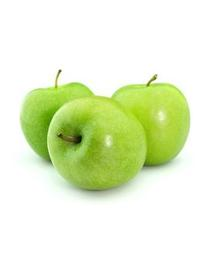apple: (48, 97, 148, 189), (110, 73, 190, 167), (19, 68, 93, 161)
